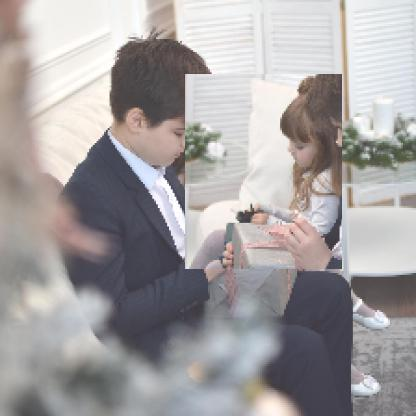child: (187, 75, 345, 272)
